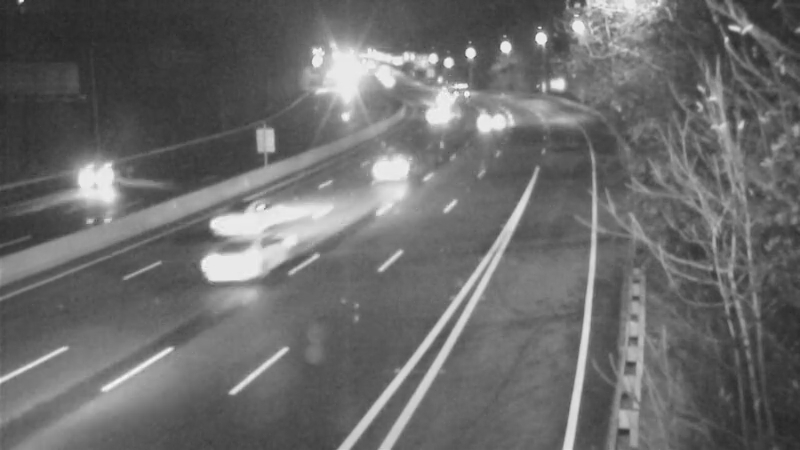vehicle: (356, 132, 436, 212), (210, 175, 290, 255), (189, 227, 269, 307), (58, 145, 138, 225), (435, 64, 485, 114), (417, 75, 467, 125), (409, 86, 459, 136), (467, 95, 517, 145)
